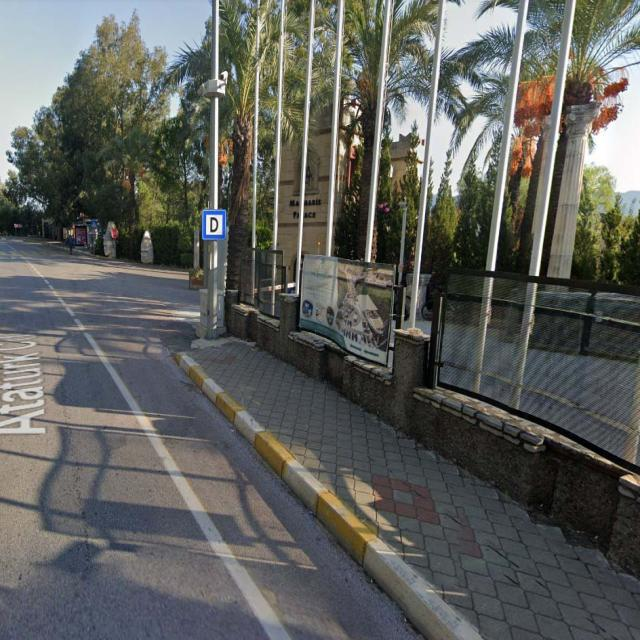durak: (202, 210, 225, 240)
